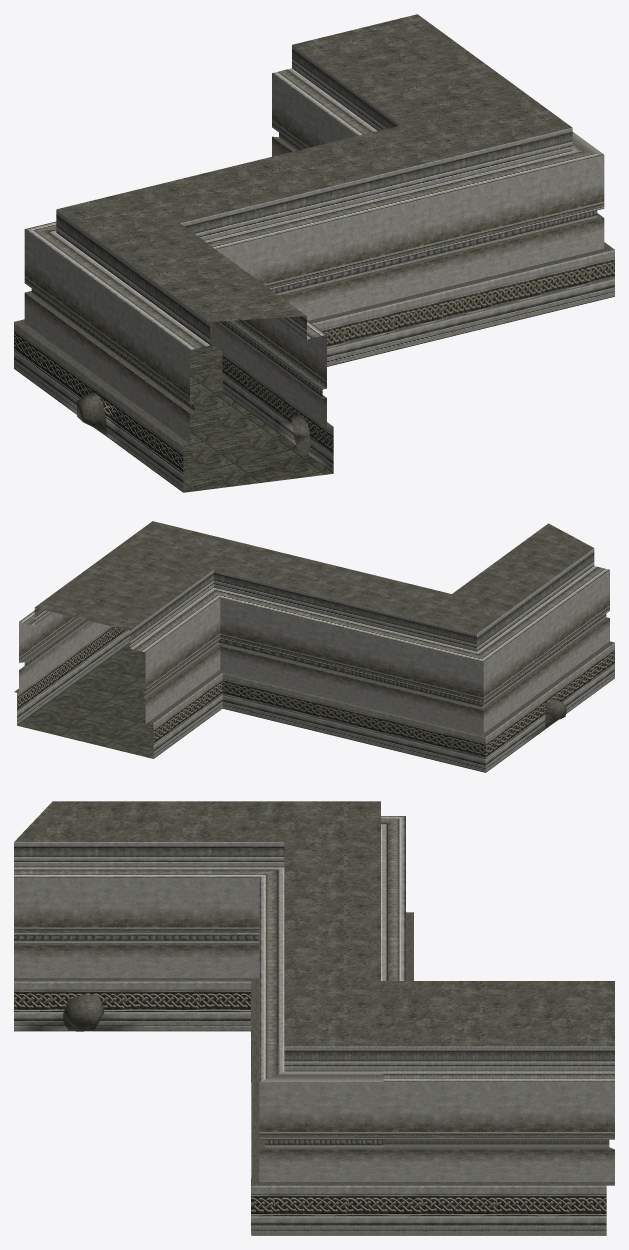
File: DWARF_PALACE_GEAR_ROOM_HALLWAYA.fbx
3 views of the same model, one above another, from view 1: azimuth 30°, elevation 25°; view 2: azimuth 150°, elevation 25°; view 3: azimuth 270°, elevation 25° (orthographic). The views are drawn at different scales.
Parts seen in each view (by area): view 1: DWARF_PALACE_GEAR_ROOM_HALLWAYA; view 2: DWARF_PALACE_GEAR_ROOM_HALLWAYA; view 3: DWARF_PALACE_GEAR_ROOM_HALLWAYA.
Part boxes in pixels (<box>): DWARF_PALACE_GEAR_ROOM_HALLWAYA: <box>14,14,614,492</box>; DWARF_PALACE_GEAR_ROOM_HALLWAYA: <box>14,521,614,772</box>; DWARF_PALACE_GEAR_ROOM_HALLWAYA: <box>14,801,614,1235</box>.
Bounding box in the file's own units: 241903 × 70000 × 217586.
7 materials, 7 textured.
